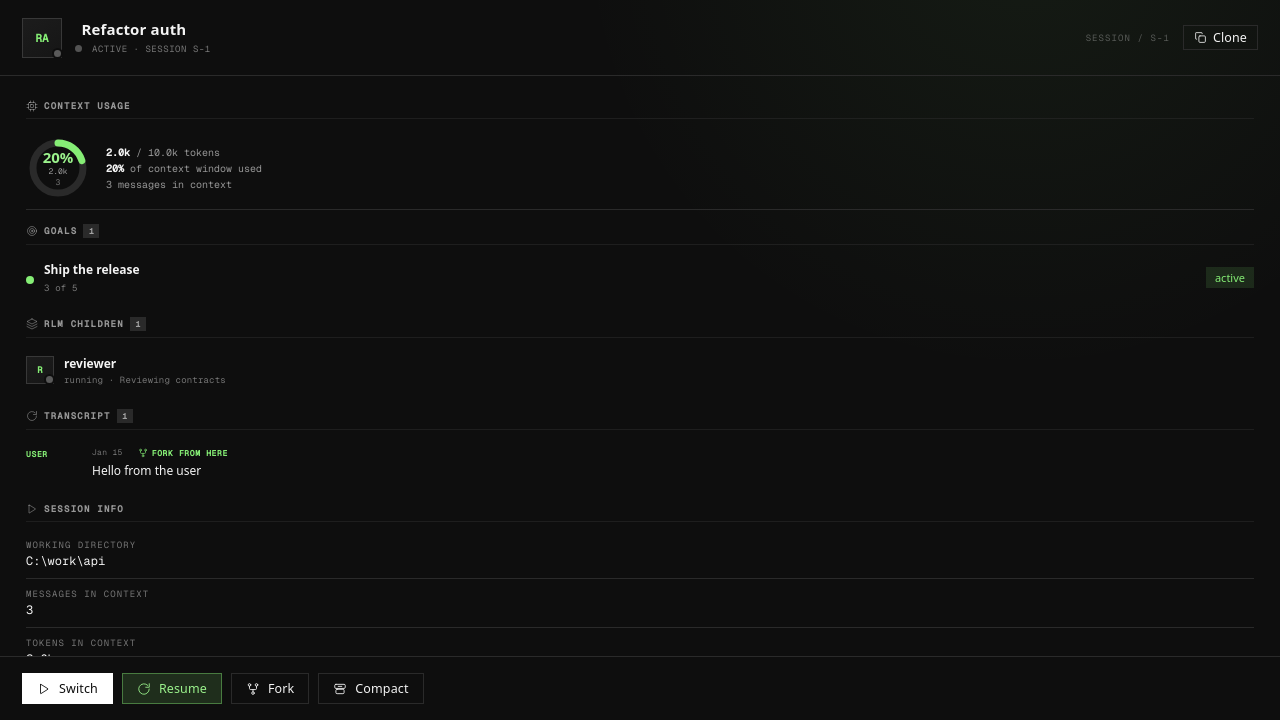
it: SessionDetail › runs compaction from the modal with a custom prompt
The width and height of the screenshot is (1280, 720).
Click the button "Compact".
click(371, 688)  # box [318,673,424,704]
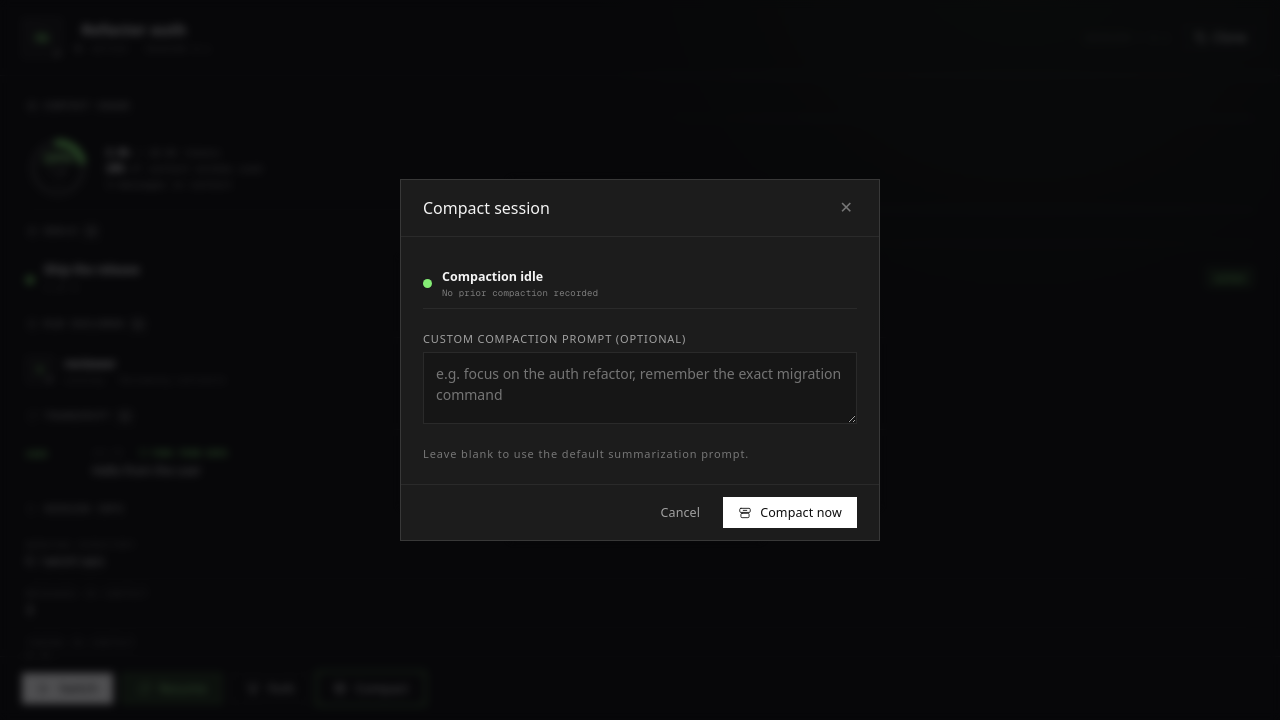
Result: the text "Compact session" is shown at [423,196,550,220]
Type "focus on the auth refactor" into the text box labelled "Custom compaction prompt (optional)".
click(640, 388); type("focus on the auth refactor")  # box [423,352,857,424]
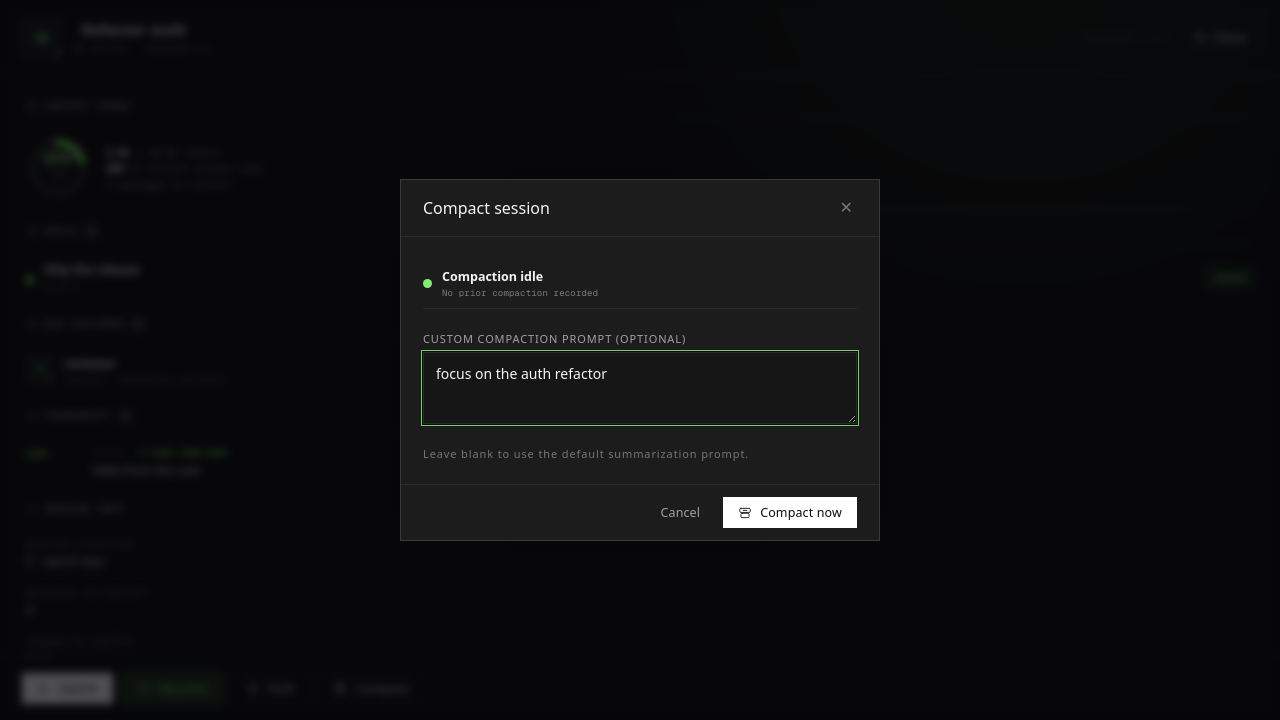
Click the button "Compact now".
click(790, 512)  # box [723,497,857,528]
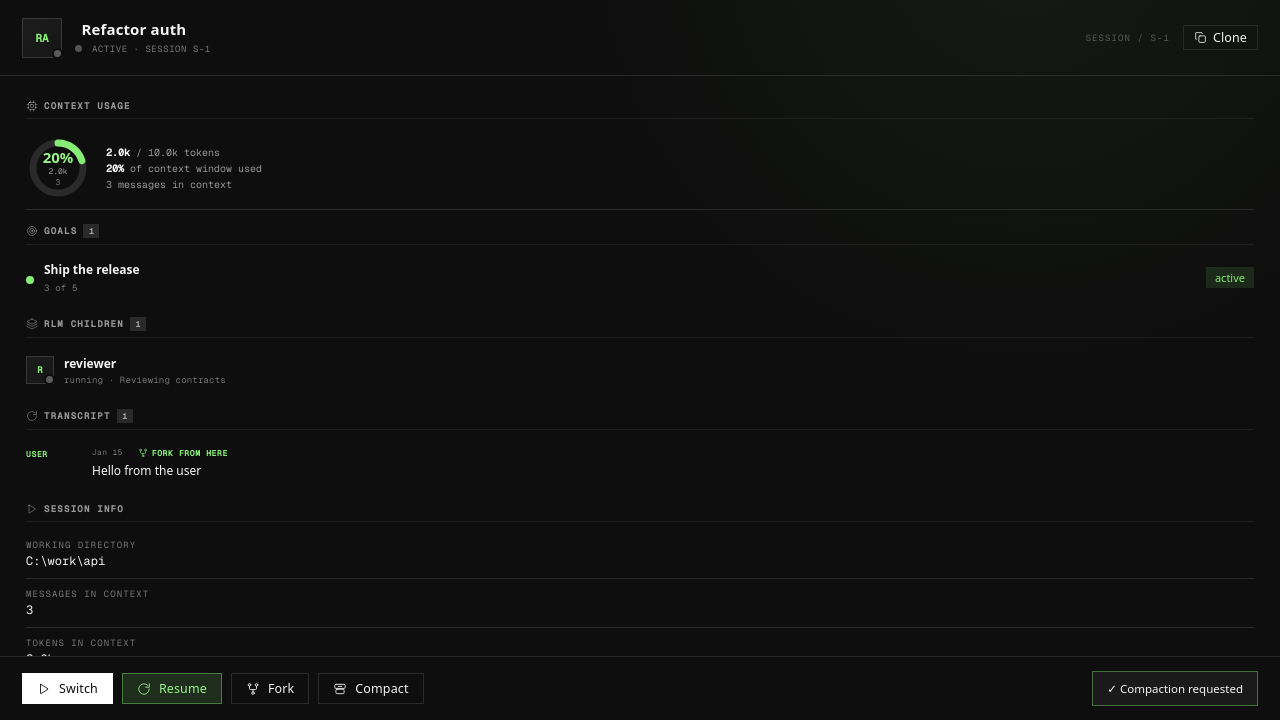
Result: the text "Compact session" is gone
Result: the text "✓ Compaction requested" is shown at [1107,681,1243,696]
